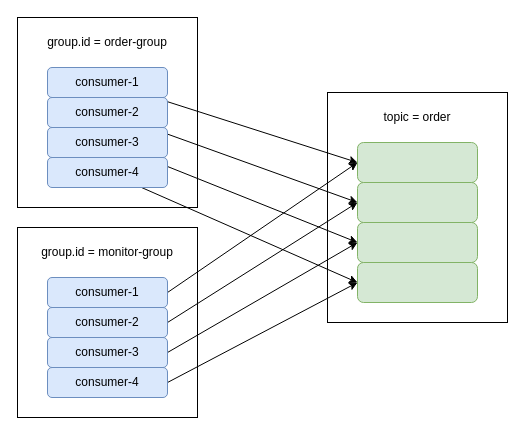
Image size: 525x435. Some labels were removed from this diagram. The shapes that lost their labels are listed below. From the top down, each one's centre as x and y in pixels, then its label:
At (417,162): "partition-0 (espresso)".
At (417,202): "partition-1 (americano)".
At (417,242): "partition-2 (latte)".
At (417,282): "partition-3 (coldbrew)".
